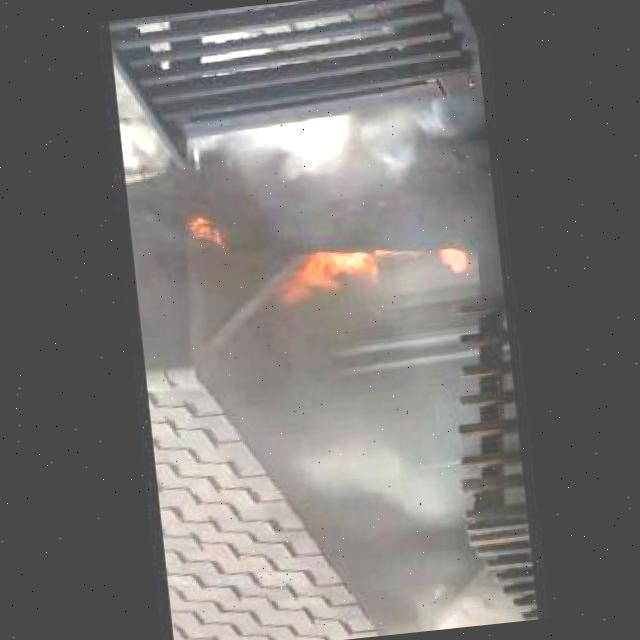fire: (260, 237, 396, 306), (421, 228, 479, 295), (184, 217, 228, 245)
